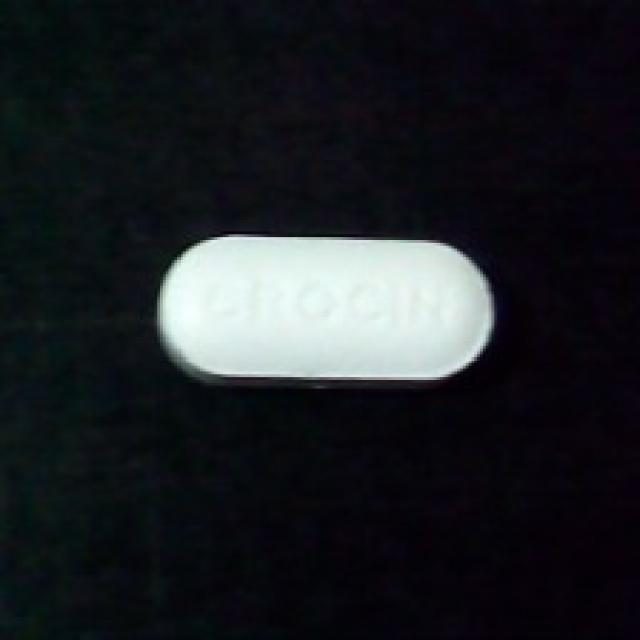no-defect: (154, 229, 497, 394)
